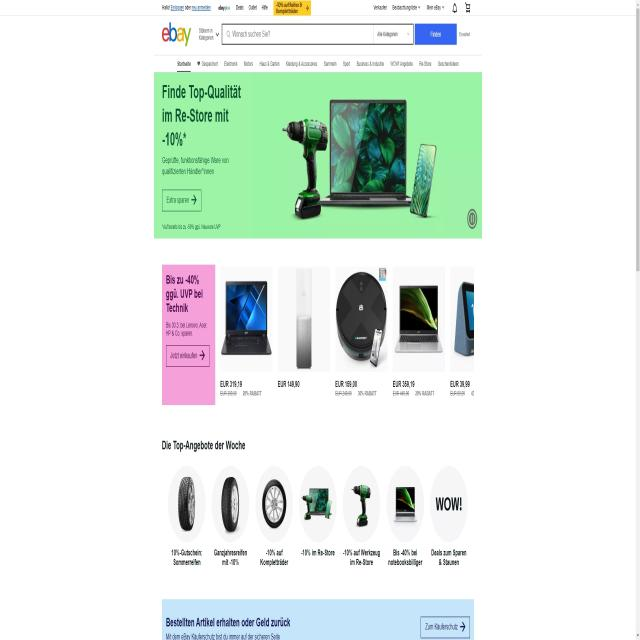menu-bar: (231, 2, 327, 16)
search: (222, 24, 456, 44)
tab-bar: (175, 54, 462, 71)
